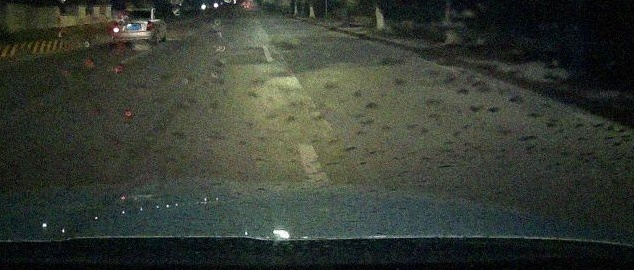L_light: (113, 23, 119, 33)
R_light: (146, 22, 153, 30)
T_light: (132, 11, 139, 13)
night-right: (112, 9, 153, 47)
